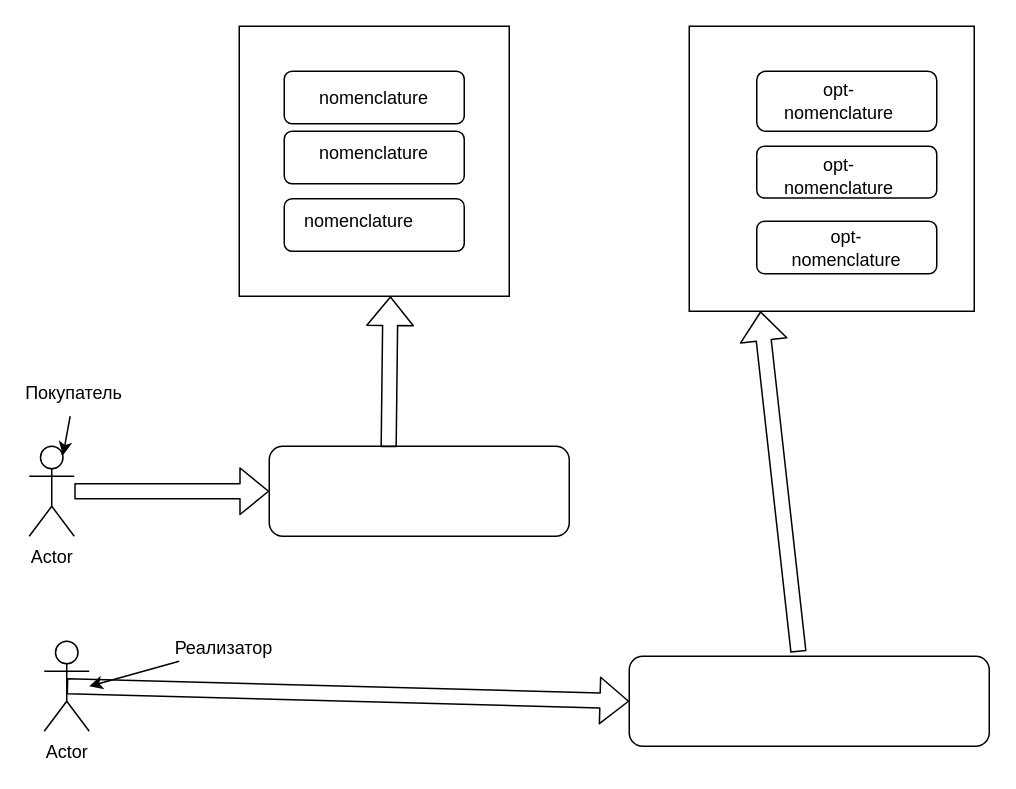
Image size: 1016x789. Some labels were removed from this diagram. The shapes that lost their labels are listed below. From the top down, each one's box as (x1, y1, x2, y2) in pixels, then its label:
(268, 445, 569, 536): ItemKatalog
(628, 655, 989, 746): opt-ItemKatalog
